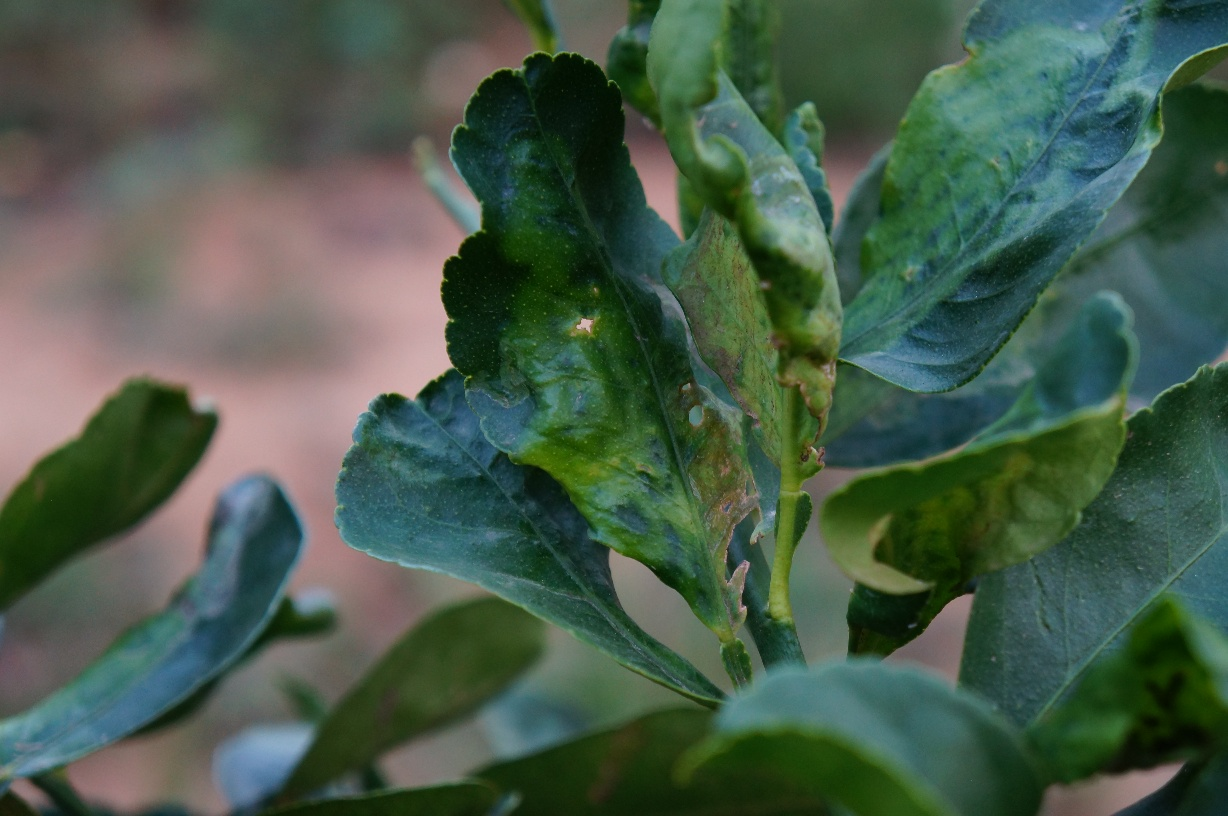damage: (479, 131, 805, 651), (857, 23, 1099, 305)
